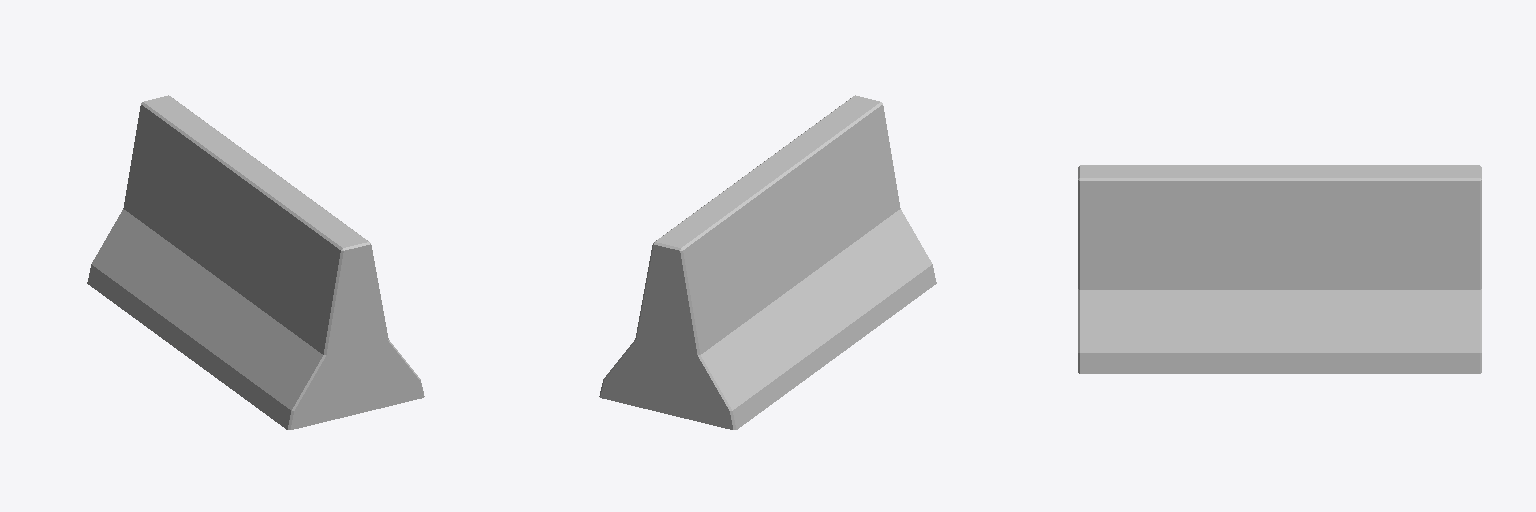
File: barrier.obj
3 views of the same model, side by side, from view 1: azimuth 30°, elevation 25°; view 2: azimuth 150°, elevation 25°; view 3: azimuth 270°, elevation 25° (orthographic).
Visible parts, largest first — view 1: Object_4.001; view 2: Object_4.001; view 3: Object_4.001.
Boxes of the visible parts, x1,y1,x2,y2 form: Object_4.001: [87, 95, 424, 429]; Object_4.001: [599, 95, 936, 429]; Object_4.001: [1078, 165, 1481, 373].
Size of the model in its own units: 0.78 by 0.9139 by 1.99.